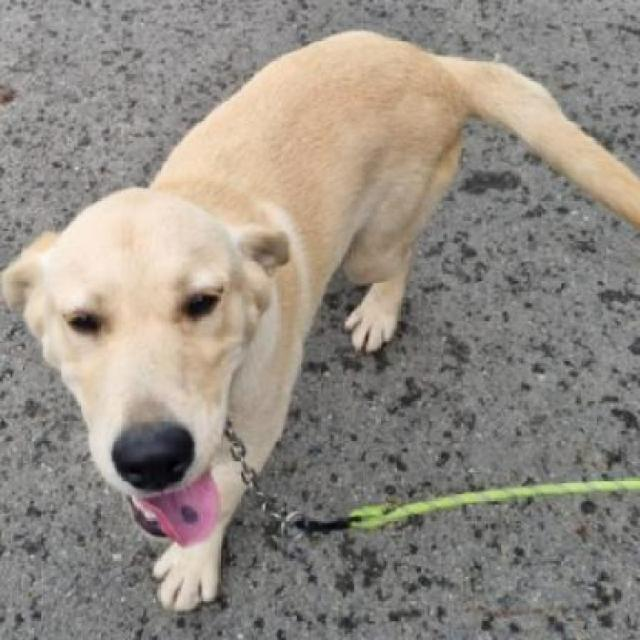Dog: (1, 29, 638, 618)
